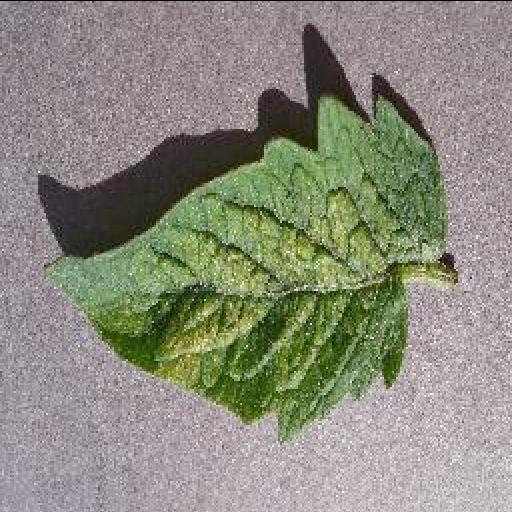disease_tomato: (44, 88, 448, 444)
